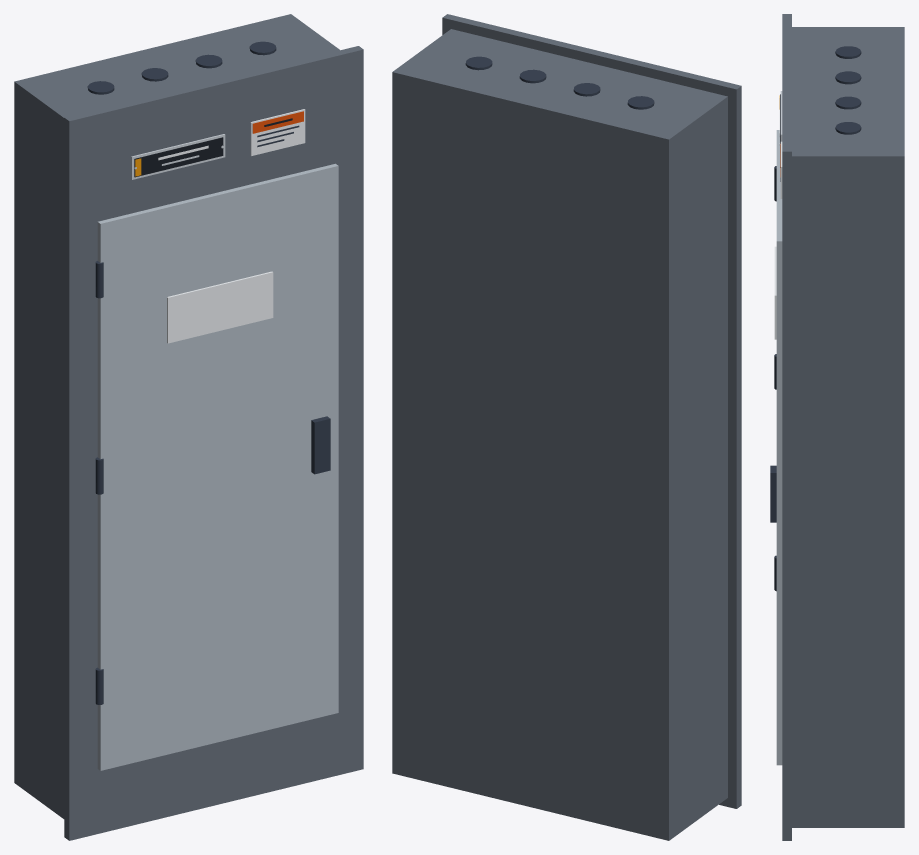
The picture shows the model from 3 angles, left to right: view 1: azimuth 30°, elevation 25°; view 2: azimuth 150°, elevation 25°; view 3: azimuth 270°, elevation 25°; orthographic projection. The views are drawn at different scales.
Visible parts, largest first — view 1: cad-panelboard, panel-nameplate-placards; view 2: cad-panelboard; view 3: cad-panelboard, panel-nameplate-placards.
Part boxes in pixels (<box>): cad-panelboard: <box>14,14,363,840</box>; panel-nameplate-placards: <box>131,109,305,179</box>; cad-panelboard: <box>392,14,741,840</box>; cad-panelboard: <box>770,14,904,840</box>; panel-nameplate-placards: <box>779,91,782,198</box>.
Bounding box in the file's own units: 0.404 × 0.944 × 0.167.
